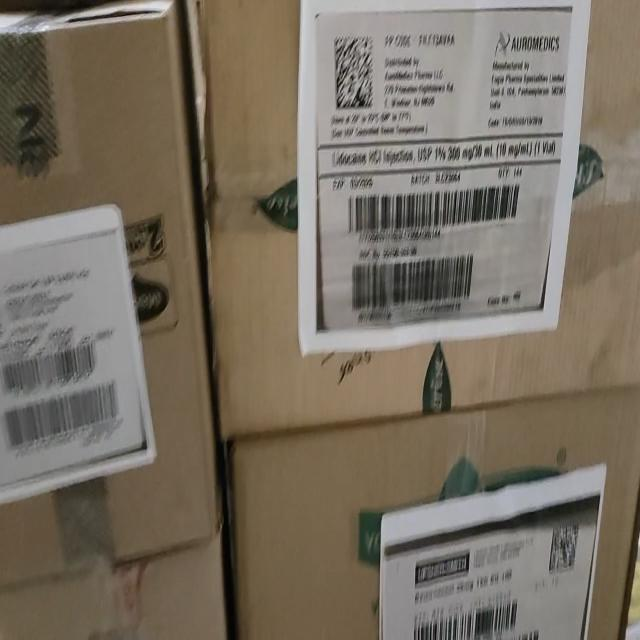BoxFace: (205, 0, 640, 444), (0, 1, 224, 578), (224, 384, 638, 637)
